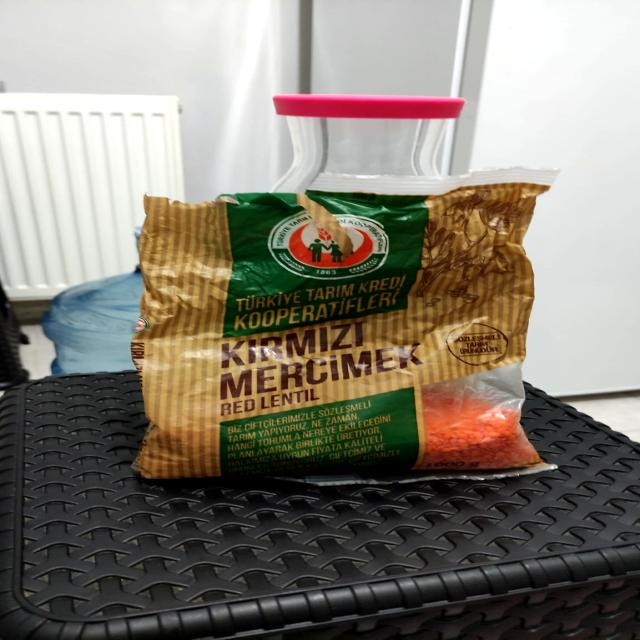red lentils: (135, 191, 546, 480)
